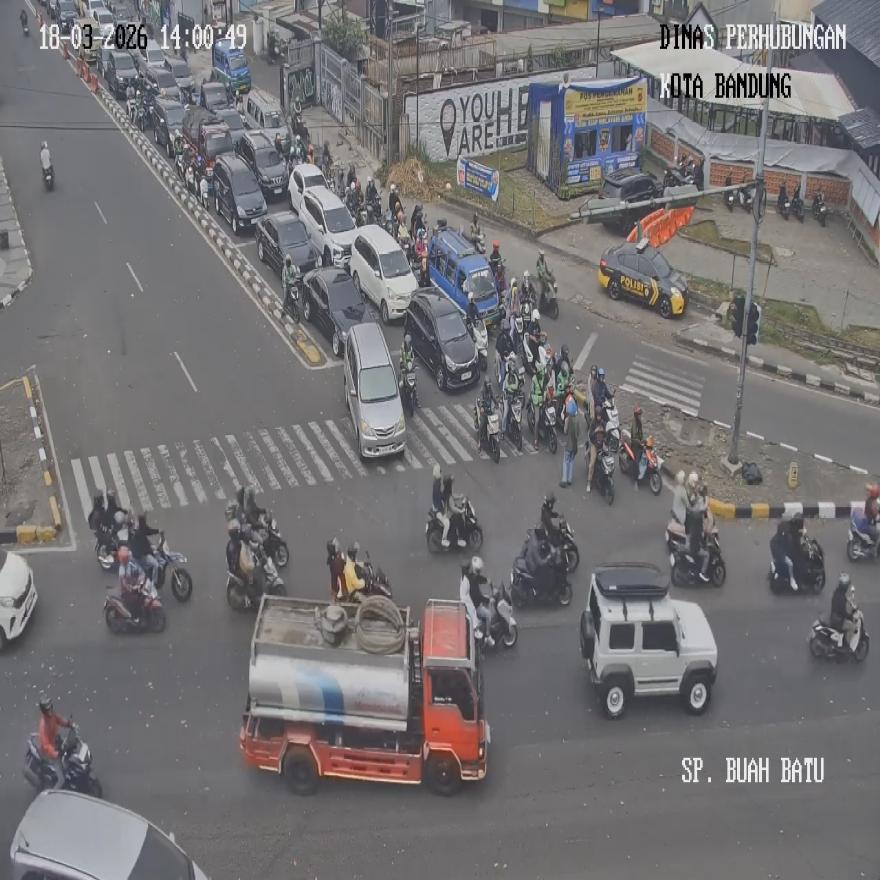Motor: (238, 598, 489, 793), (579, 562, 718, 719), (8, 788, 210, 880), (342, 322, 407, 458), (404, 287, 482, 391), (350, 224, 418, 321)
Truk: (22, 722, 102, 797), (460, 577, 517, 649), (226, 546, 288, 611), (104, 573, 166, 633), (510, 548, 572, 608), (667, 523, 725, 587), (0, 550, 37, 649), (809, 605, 869, 662), (330, 550, 392, 605), (769, 532, 825, 592), (425, 495, 481, 552), (148, 537, 192, 602), (619, 432, 661, 492), (847, 506, 880, 560), (588, 437, 614, 502), (258, 516, 289, 570), (475, 398, 501, 461), (533, 398, 557, 452), (600, 398, 621, 454), (502, 394, 522, 452), (536, 271, 557, 319), (399, 365, 418, 418), (470, 319, 488, 370), (740, 178, 762, 216), (282, 276, 300, 322), (40, 140, 54, 190), (789, 190, 805, 223), (724, 174, 737, 212), (812, 191, 826, 226), (776, 182, 789, 218), (19, 9, 28, 34)
